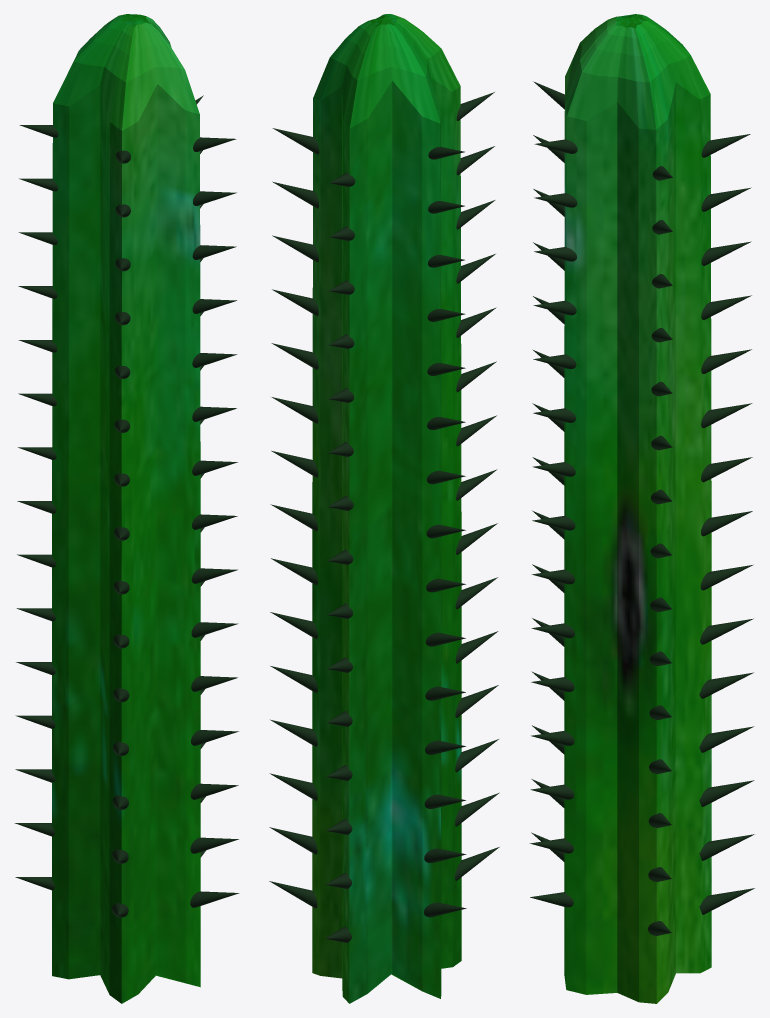
The model's file is TallCactus.fbx.
The picture shows the model from 3 angles, left to right: view 1: azimuth 30°, elevation 25°; view 2: azimuth 150°, elevation 25°; view 3: azimuth 270°, elevation 25°; orthographic projection.
Visible parts, largest first — view 1: CactusBody, Spines4, Spines2, Spines3; view 2: CactusBody, Spines5, Spines3, Spines2, Spines1; view 3: CactusBody, Spines1, Spines4, Spines5, Spines3.
Part boxes in pixels (x1=…): CactusBody: x1=52, y1=14, x2=200, y2=1003; Spines4: x1=190, y1=137, x2=239, y2=907; Spines2: x1=14, y1=125, x2=58, y2=890; Spines3: x1=112, y1=150, x2=130, y2=917; CactusBody: x1=312, y1=14, x2=461, y2=1003; Spines5: x1=269, y1=128, x2=319, y2=908; Spines3: x1=454, y1=92, x2=499, y2=880; Spines2: x1=423, y1=147, x2=466, y2=917; Spines1: x1=325, y1=172, x2=355, y2=942; CactusBody: x1=564, y1=14, x2=711, y2=1003; Spines1: x1=699, y1=134, x2=754, y2=914; Spines4: x1=529, y1=139, x2=577, y2=907; Spines5: x1=648, y1=166, x2=672, y2=935; Spines3: x1=531, y1=81, x2=564, y2=861.
Size of the model in its own units: 69.28 by 323 by 69.2.
Materials: 2 (1 with a texture image).
